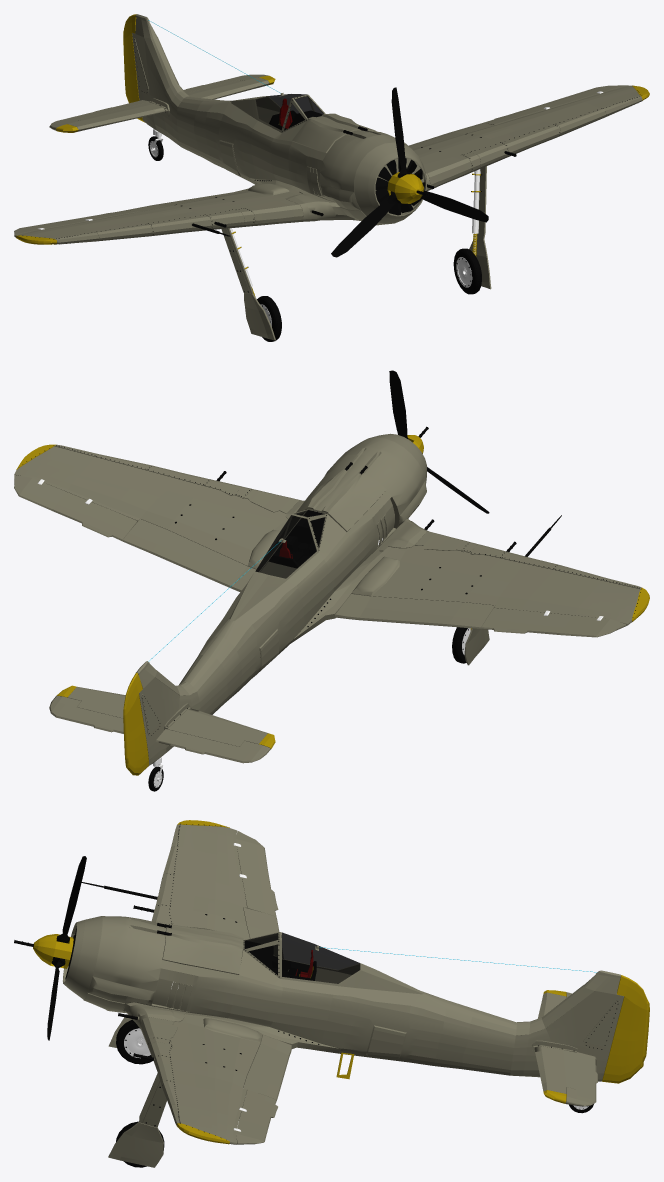
3 views of the same model, one above another, from view 1: azimuth 30°, elevation 25°; view 2: azimuth 150°, elevation 25°; view 3: azimuth 270°, elevation 25° (orthographic). The views are drawn at different scales.
Parts seen in each view (by area): view 1: MainBody, FrontWingBumper, Screw, polySurface31 (×2), polySurface79 (×2), polySurface29 (×2), polySurface87, Tail, polySurface76, polySurface46, polySurface88, polySurface13 (+5 smaller); view 2: MainBody, FrontWingBumper, polySurface23, polySurface16, polySurface8 (×2), polySurface79 (×2), polySurface13, polySurface22, polySurface87, Tail, polySurface47, pCube4 (+1 smaller); view 3: MainBody, FrontWingBumper, Tail, polySurface31, polySurface87, polySurface22, polySurface16, polySurface47, polySurface79, polySurface13, polySurface8, Screw (+8 smaller).
Boxes of the visible parts, left/top/right/bottom form: MainBody: left=14, top=14, right=639, bottom=238; FrontWingBumper: left=54, top=95, right=642, bottom=244; Screw: left=331, top=87, right=488, bottom=257; polySurface31 (×2): left=221, top=166, right=491, bottom=340; polySurface79 (×2): left=68, top=77, right=269, bottom=131; polySurface29 (×2): left=257, top=248, right=481, bottom=341; polySurface87: left=255, top=94, right=311, bottom=130; Tail: left=123, top=14, right=144, bottom=122; polySurface76: left=144, top=37, right=190, bottom=106; polySurface46: left=375, top=158, right=425, bottom=215; polySurface88: left=387, top=172, right=423, bottom=203; polySurface13: left=482, top=85, right=625, bottom=124; MainBody: left=14, top=433, right=640, bottom=766; FrontWingBumper: left=54, top=444, right=641, bottom=589; polySurface23: left=335, top=594, right=494, bottom=629; polySurface16: left=122, top=519, right=256, bottom=591; polySurface8 (×2): left=49, top=696, right=270, bottom=763; polySurface79 (×2): left=68, top=687, right=268, bottom=746; polySurface13: left=14, top=475, right=137, bottom=541; polySurface22: left=481, top=608, right=626, bottom=637; polySurface87: left=255, top=515, right=316, bottom=578; Tail: left=123, top=672, right=148, bottom=775; polySurface47: left=229, top=514, right=318, bottom=621; pCube4: left=269, top=510, right=324, bottom=567; MainBody: left=63, top=824, right=623, bottom=1144; FrontWingBumper: left=128, top=824, right=193, bottom=1125; Tail: left=602, top=975, right=649, bottom=1083; polySurface31: left=108, top=1073, right=166, bottom=1167; polySurface87: left=281, top=932, right=360, bottom=983; polySurface22: left=236, top=831, right=278, bottom=916; polySurface16: left=243, top=1035, right=291, bottom=1100; polySurface47: left=279, top=932, right=424, bottom=994; polySurface79: left=534, top=1046, right=576, bottom=1093; polySurface13: left=236, top=1089, right=277, bottom=1144; polySurface8: left=565, top=1052, right=597, bottom=1106; Screw: left=47, top=856, right=86, bottom=1040.
Bounding box in the file's own units: 506 × 194 × 430.
